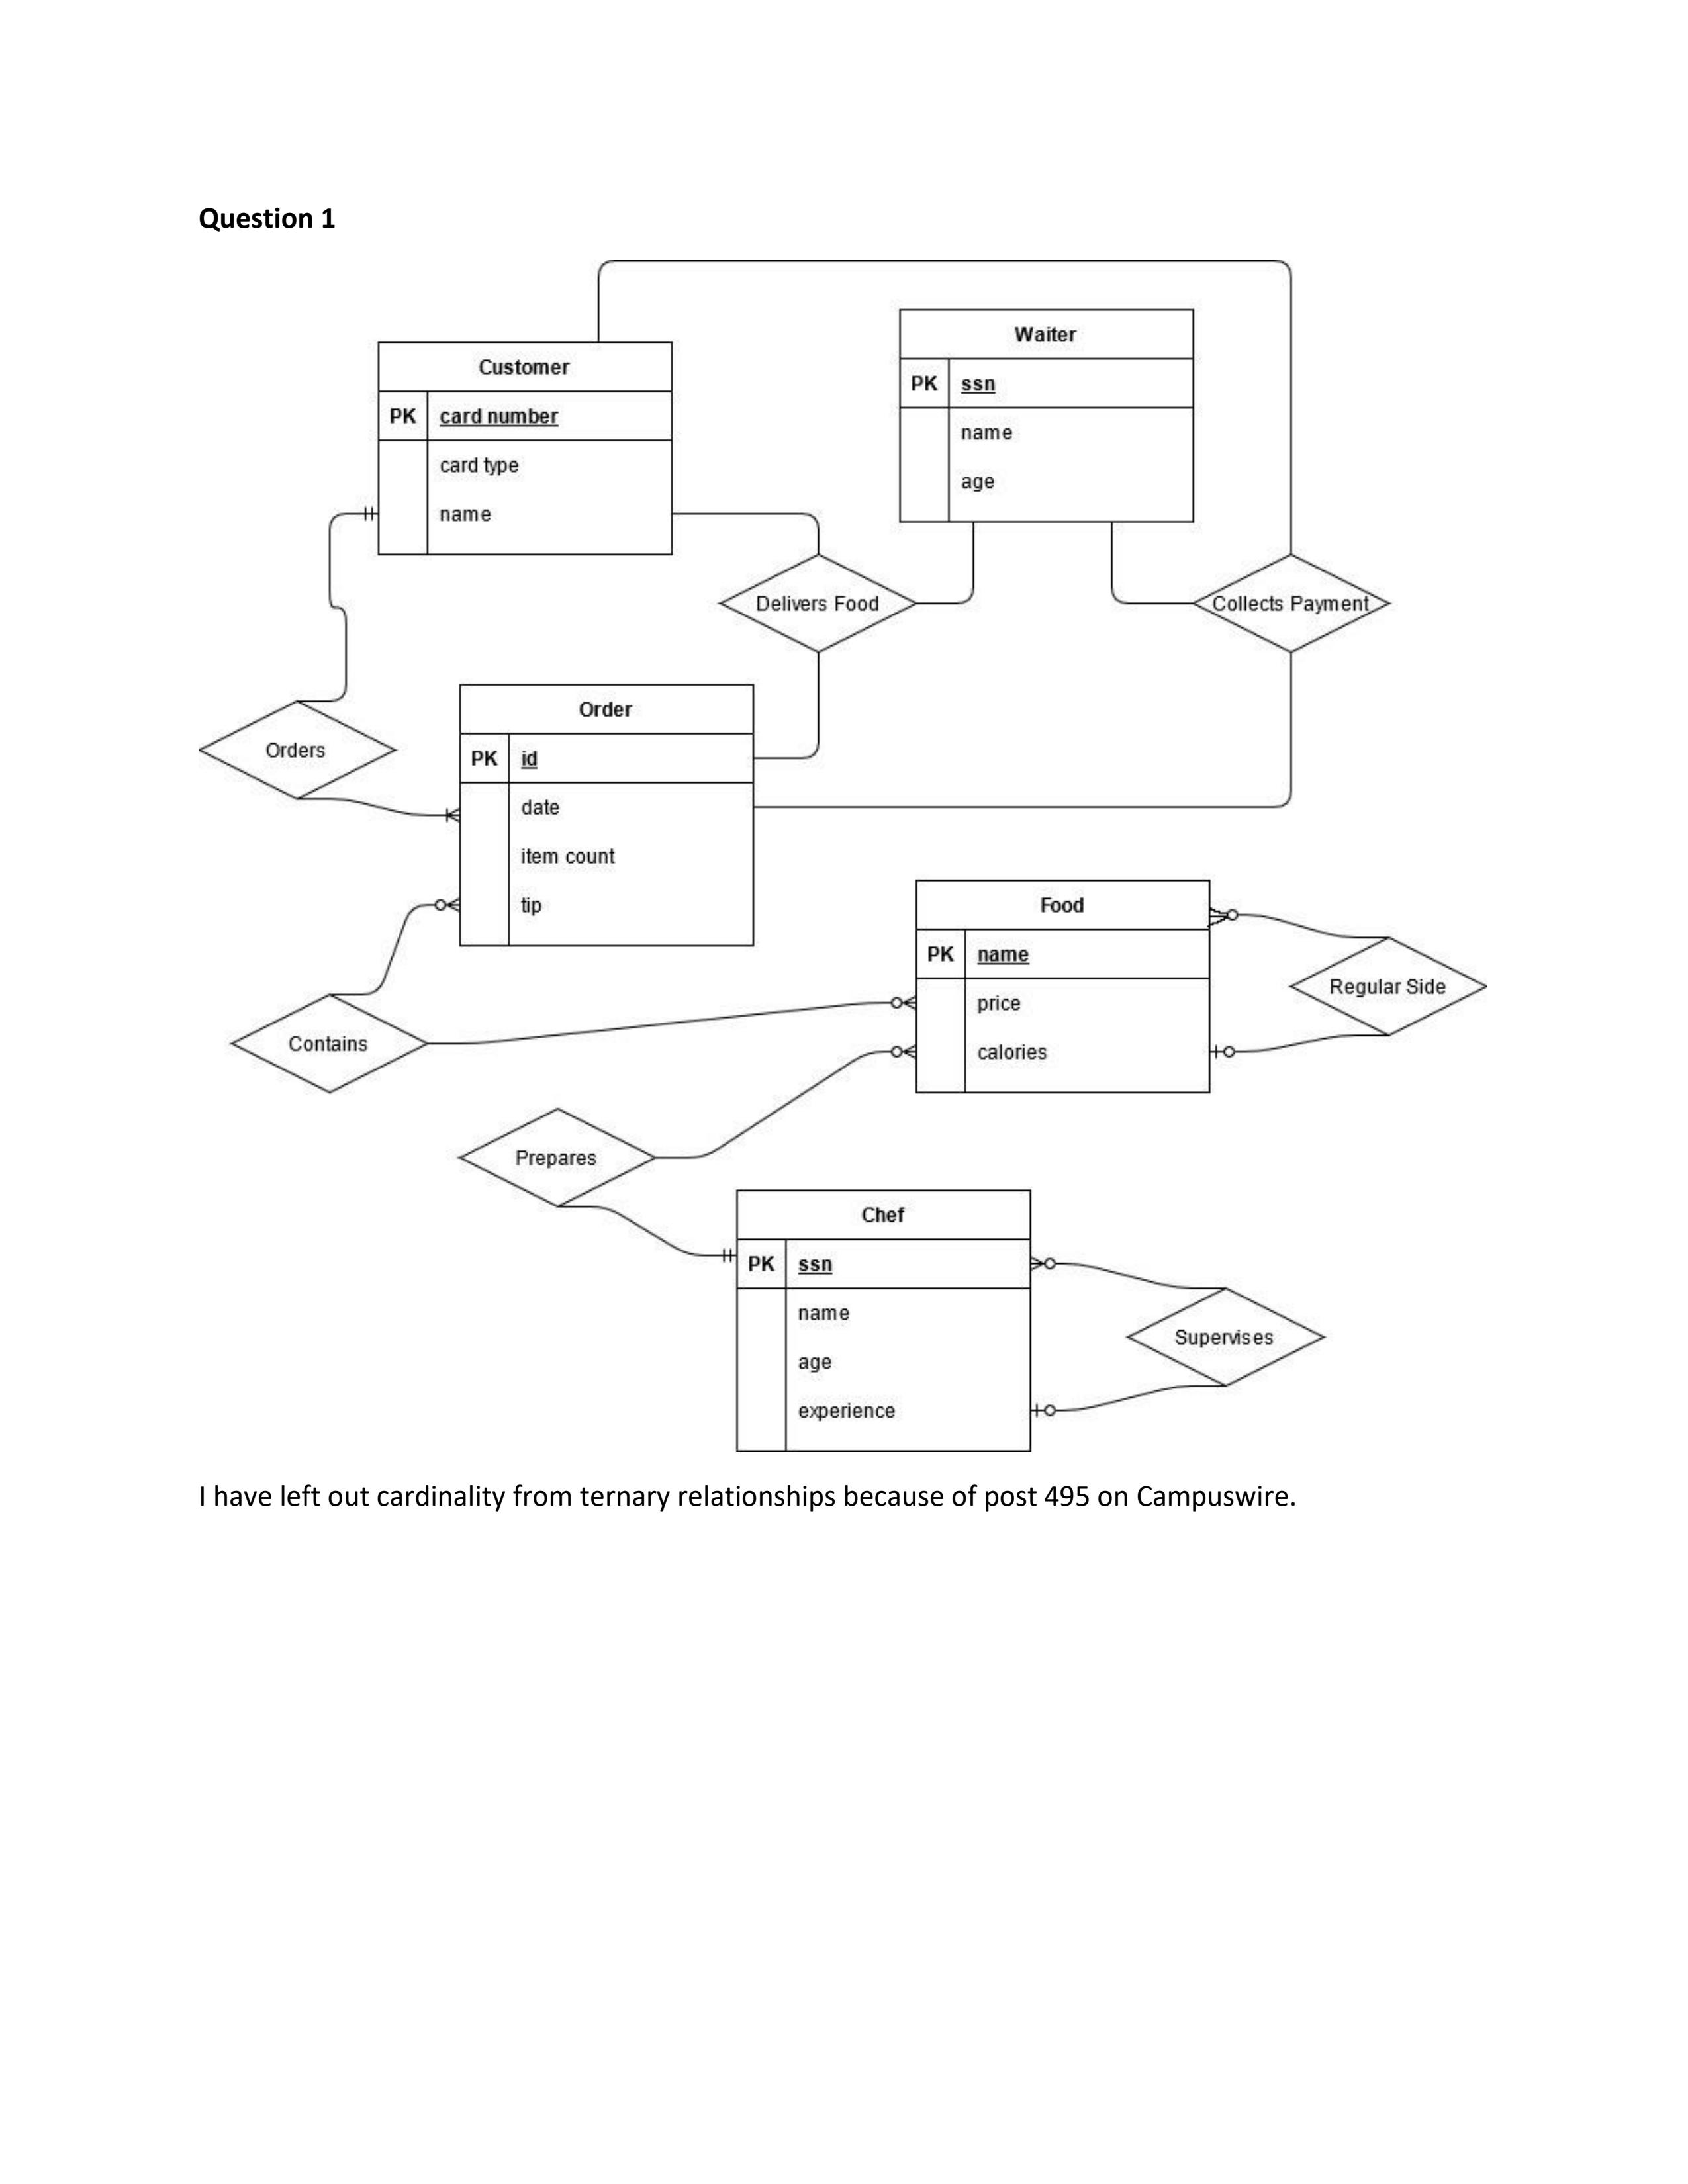Entity: (725, 1179, 1043, 1464), (449, 679, 759, 956), (901, 870, 1220, 1104), (888, 303, 1200, 532), (371, 335, 679, 564)
Relationship: (452, 1099, 661, 1213), (1121, 1280, 1335, 1390), (191, 693, 404, 801), (1183, 550, 1401, 654), (227, 989, 434, 1099), (709, 546, 922, 652), (1287, 932, 1495, 1039)
